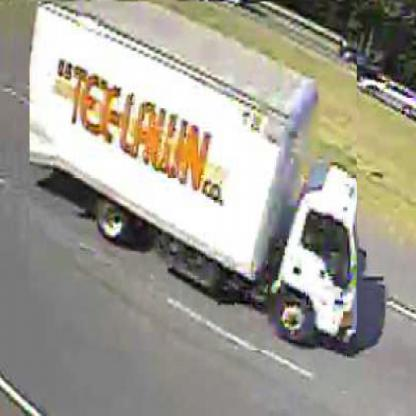truck: (30, 2, 359, 353)
